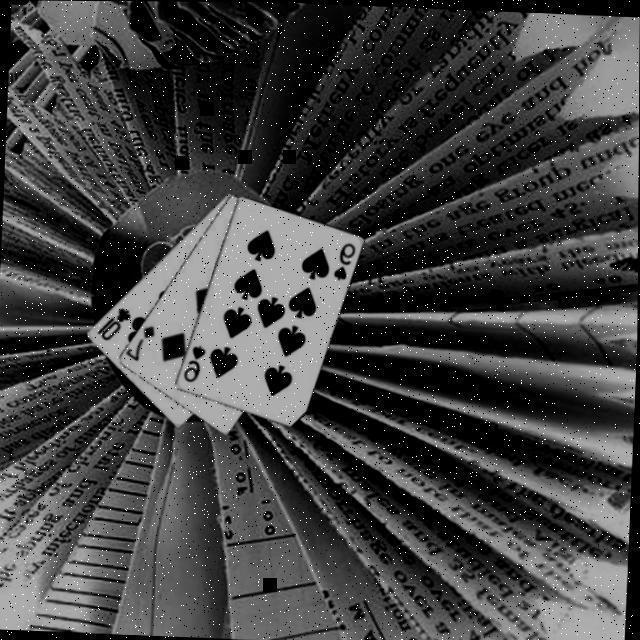10C: (93, 301, 132, 342)
7D: (123, 319, 156, 362)
9S: (180, 338, 207, 382), (329, 237, 356, 280)
